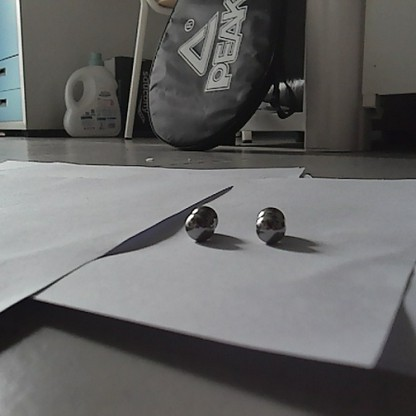ironball: (256, 214, 285, 242), (185, 215, 213, 242), (191, 205, 217, 228), (257, 205, 285, 220)
